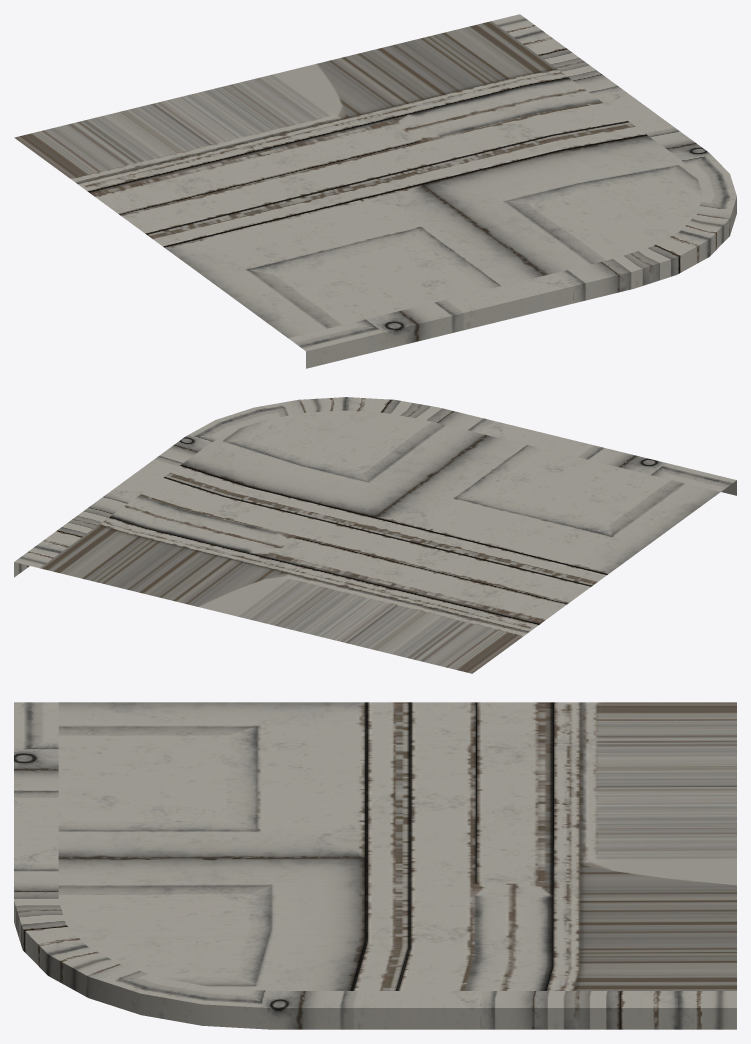
The model's file is SideWalk_3.fbx.
3 renders of one model, top to bottom at view 1: azimuth 30°, elevation 25°; view 2: azimuth 150°, elevation 25°; view 3: azimuth 270°, elevation 25°, orthographic. The views are drawn at different scales.
Parts seen in each view (by area): view 1: SideWalk_3; view 2: SideWalk_3; view 3: SideWalk_3.
Part boxes in pixels (<box>): SideWalk_3: <box>14,14,736,368</box>; SideWalk_3: <box>14,397,736,673</box>; SideWalk_3: <box>14,702,736,1029</box>.
Size of the model in its own units: 2 by 0.0656 by 2.
